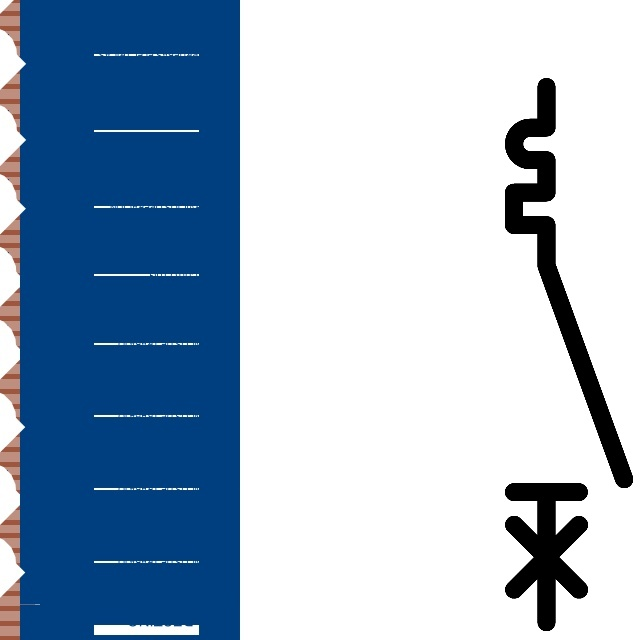interruptor_termomagnetico: (500, 73, 638, 636)
